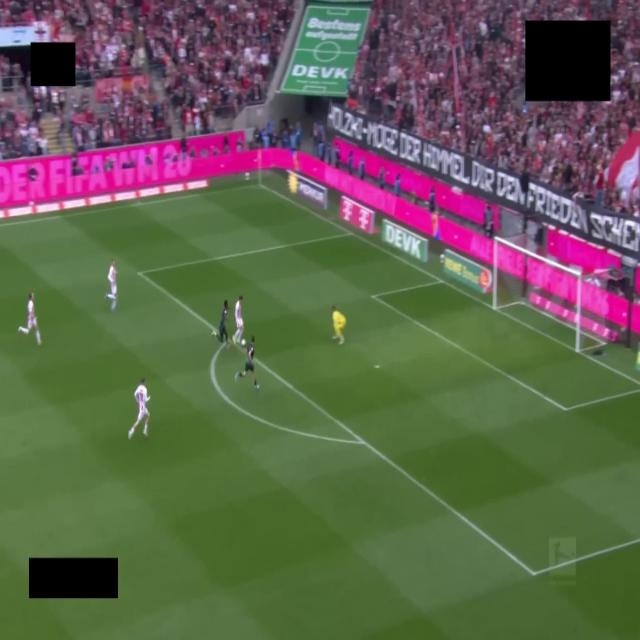ball: (241, 339, 245, 346)
player: (235, 336, 259, 389), (129, 378, 149, 439), (19, 293, 41, 345), (212, 300, 230, 347), (105, 259, 116, 311), (332, 306, 346, 344), (233, 296, 243, 343)
